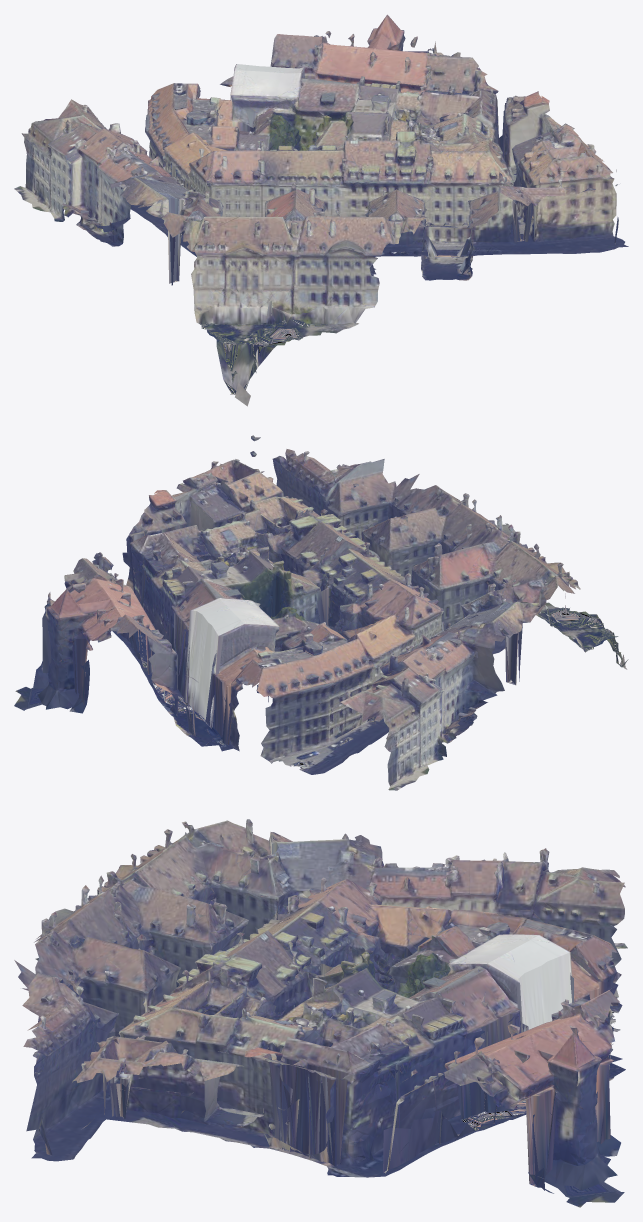
3 views of the same model, one above another, from view 1: azimuth 30°, elevation 25°; view 2: azimuth 150°, elevation 25°; view 3: azimuth 270°, elevation 25° (orthographic). The views are drawn at different scales.
Size of the model in its own units: 108 by 38.98 by 108.
Materials: 1 (1 with a texture image).
